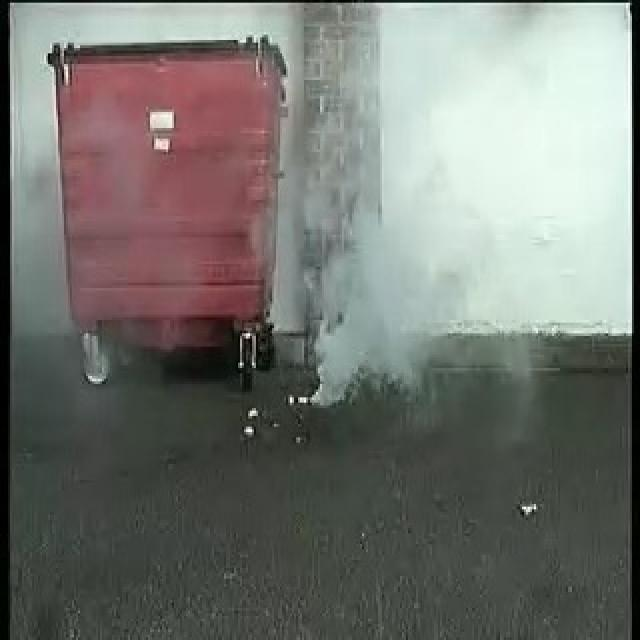smoke: (292, 65, 433, 400)
